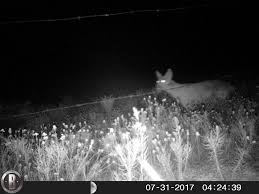coyote: (150, 62, 234, 108)
